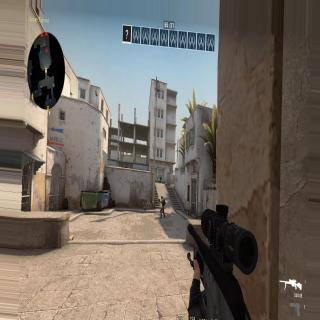CT-Body: (160, 196, 166, 213), (159, 174, 162, 182)
CT-Head: (161, 196, 163, 199), (160, 174, 161, 177)
